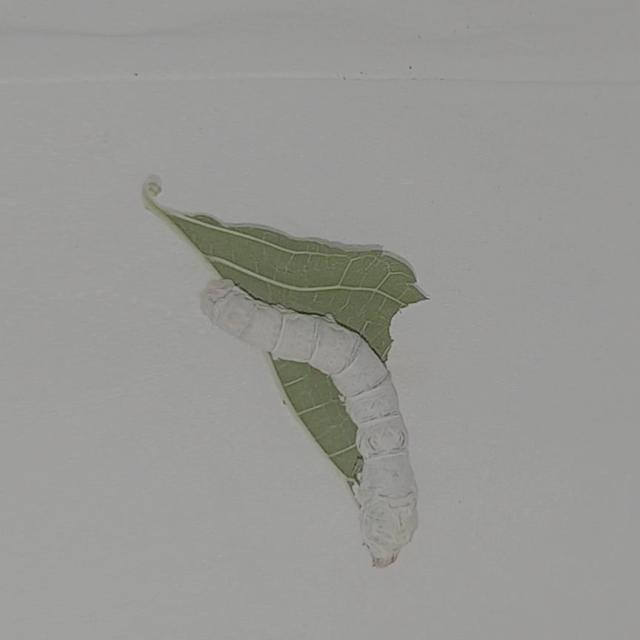Healthy: (177, 230, 477, 598)
